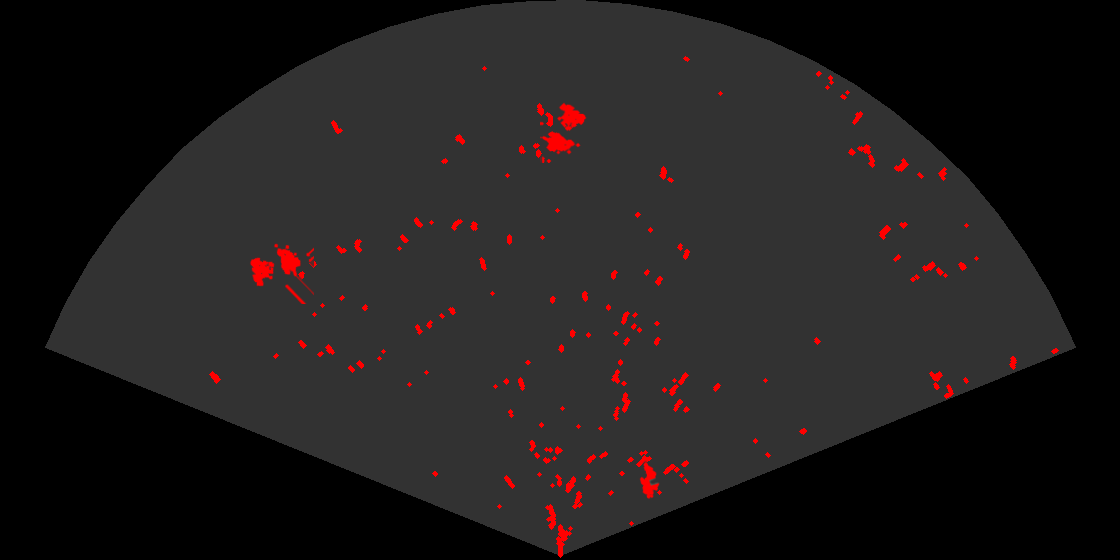AUV: (638, 460, 661, 501)
cage: (248, 242, 314, 304), (540, 101, 588, 163)
